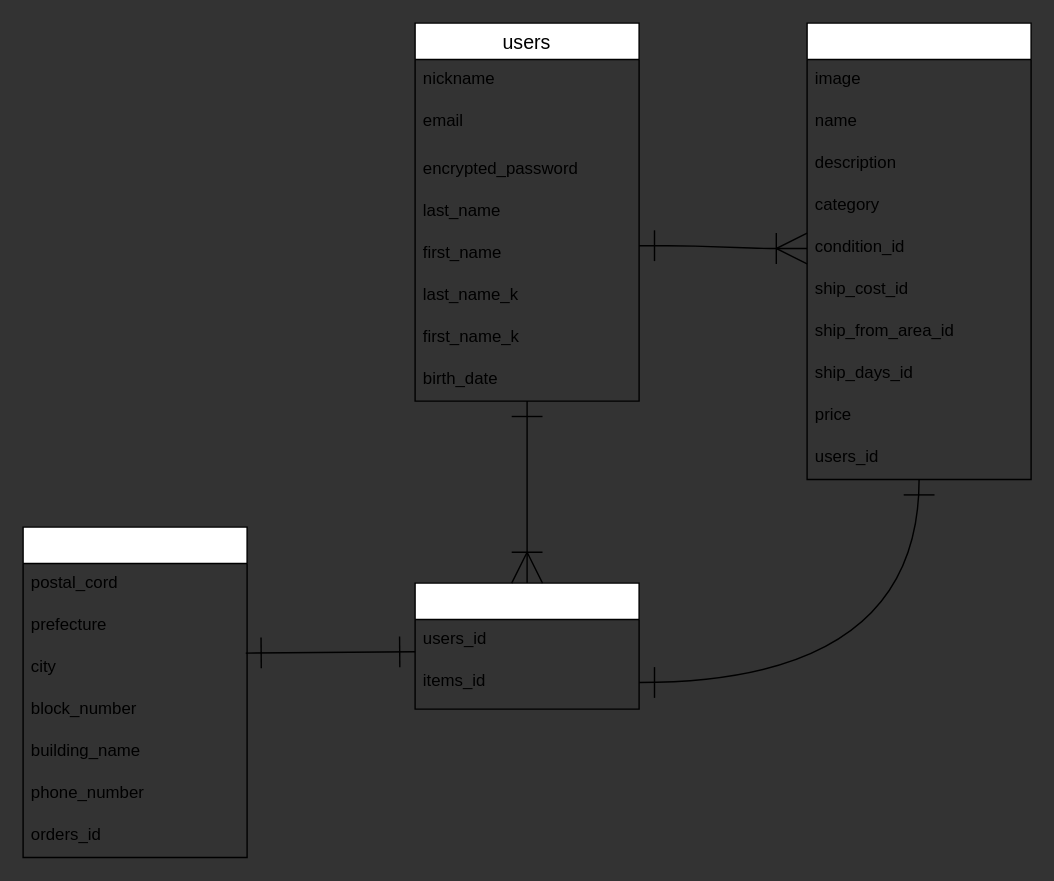
Image size: 1054x881. Some labels were removed from this diagram. Each missing label, with the box of its shape:
addresses: (22, 526, 247, 858)
orders: (414, 582, 639, 709)
